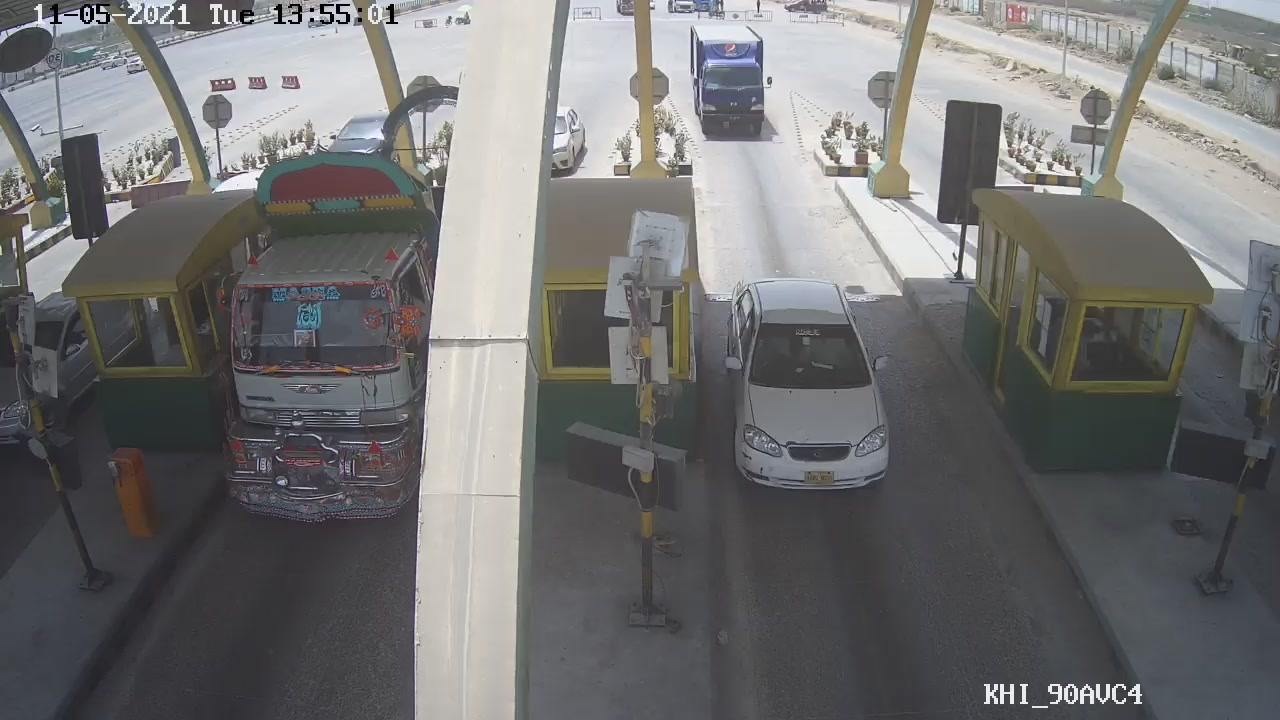F1: (715, 273, 895, 503)
